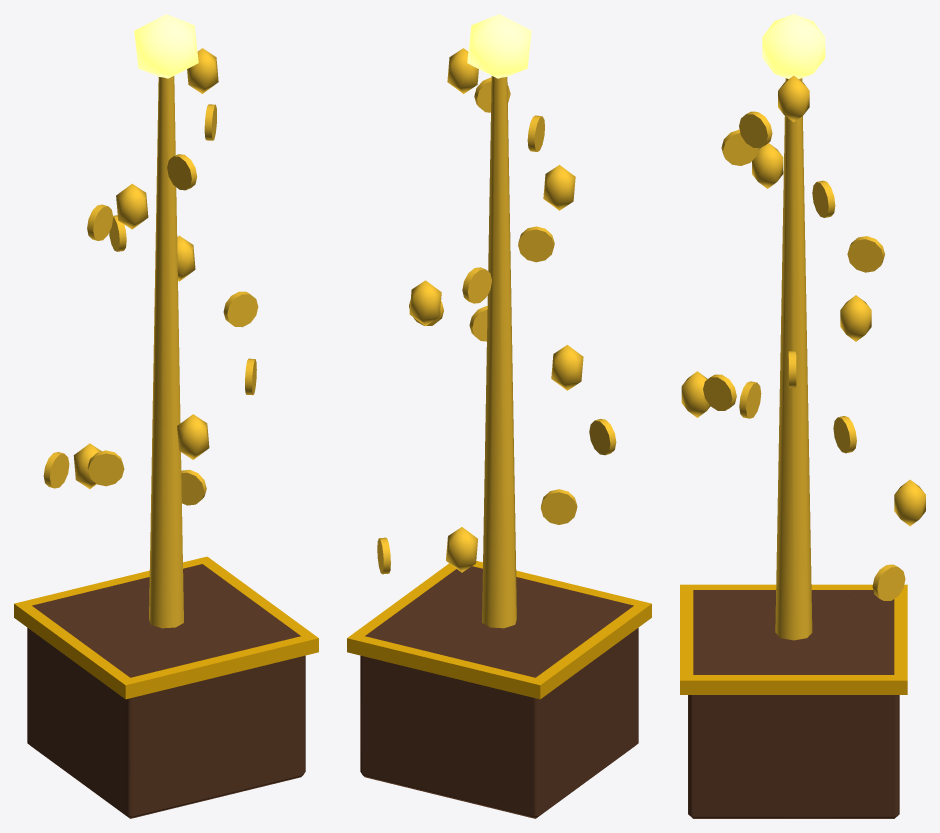
The model's file is station_special_ausstattung_1_3.glb.
3 views of the same model, side by side, from view 1: azimuth 30°, elevation 25°; view 2: azimuth 150°, elevation 25°; view 3: azimuth 270°, elevation 25° (orthographic).
Visible parts, largest first — view 1: station_special_ausstattung_1_3; view 2: station_special_ausstattung_1_3; view 3: station_special_ausstattung_1_3.
Part boxes in pixels (bbox=[...]): station_special_ausstattung_1_3: bbox=[14, 14, 318, 818]; station_special_ausstattung_1_3: bbox=[347, 14, 651, 818]; station_special_ausstattung_1_3: bbox=[680, 14, 925, 818].
Size of the model in its own units: 0.4378 by 1.59 by 0.4645.
